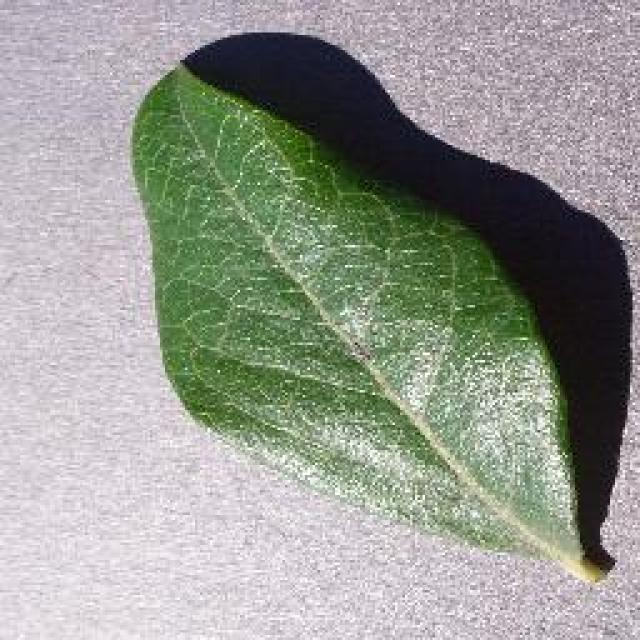Blu_healthy: (151, 164, 500, 490)
